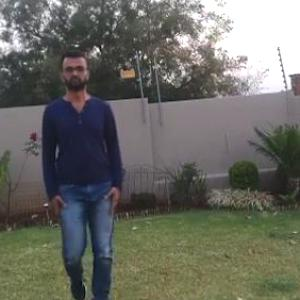follow: (48, 60, 121, 290)
